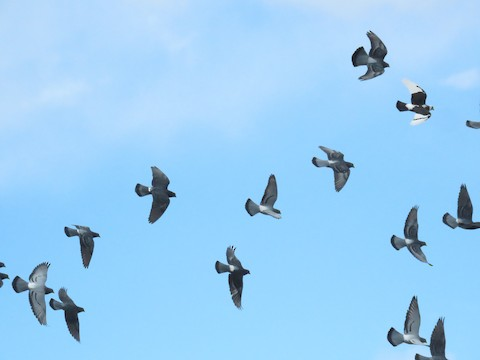pigeon: (385, 201, 437, 267), (9, 257, 55, 326), (132, 163, 180, 225), (214, 242, 255, 312), (379, 291, 429, 348), (307, 139, 356, 193), (349, 27, 391, 86), (47, 284, 87, 340), (244, 171, 286, 222), (62, 222, 102, 271), (392, 82, 437, 125), (443, 180, 477, 235)
